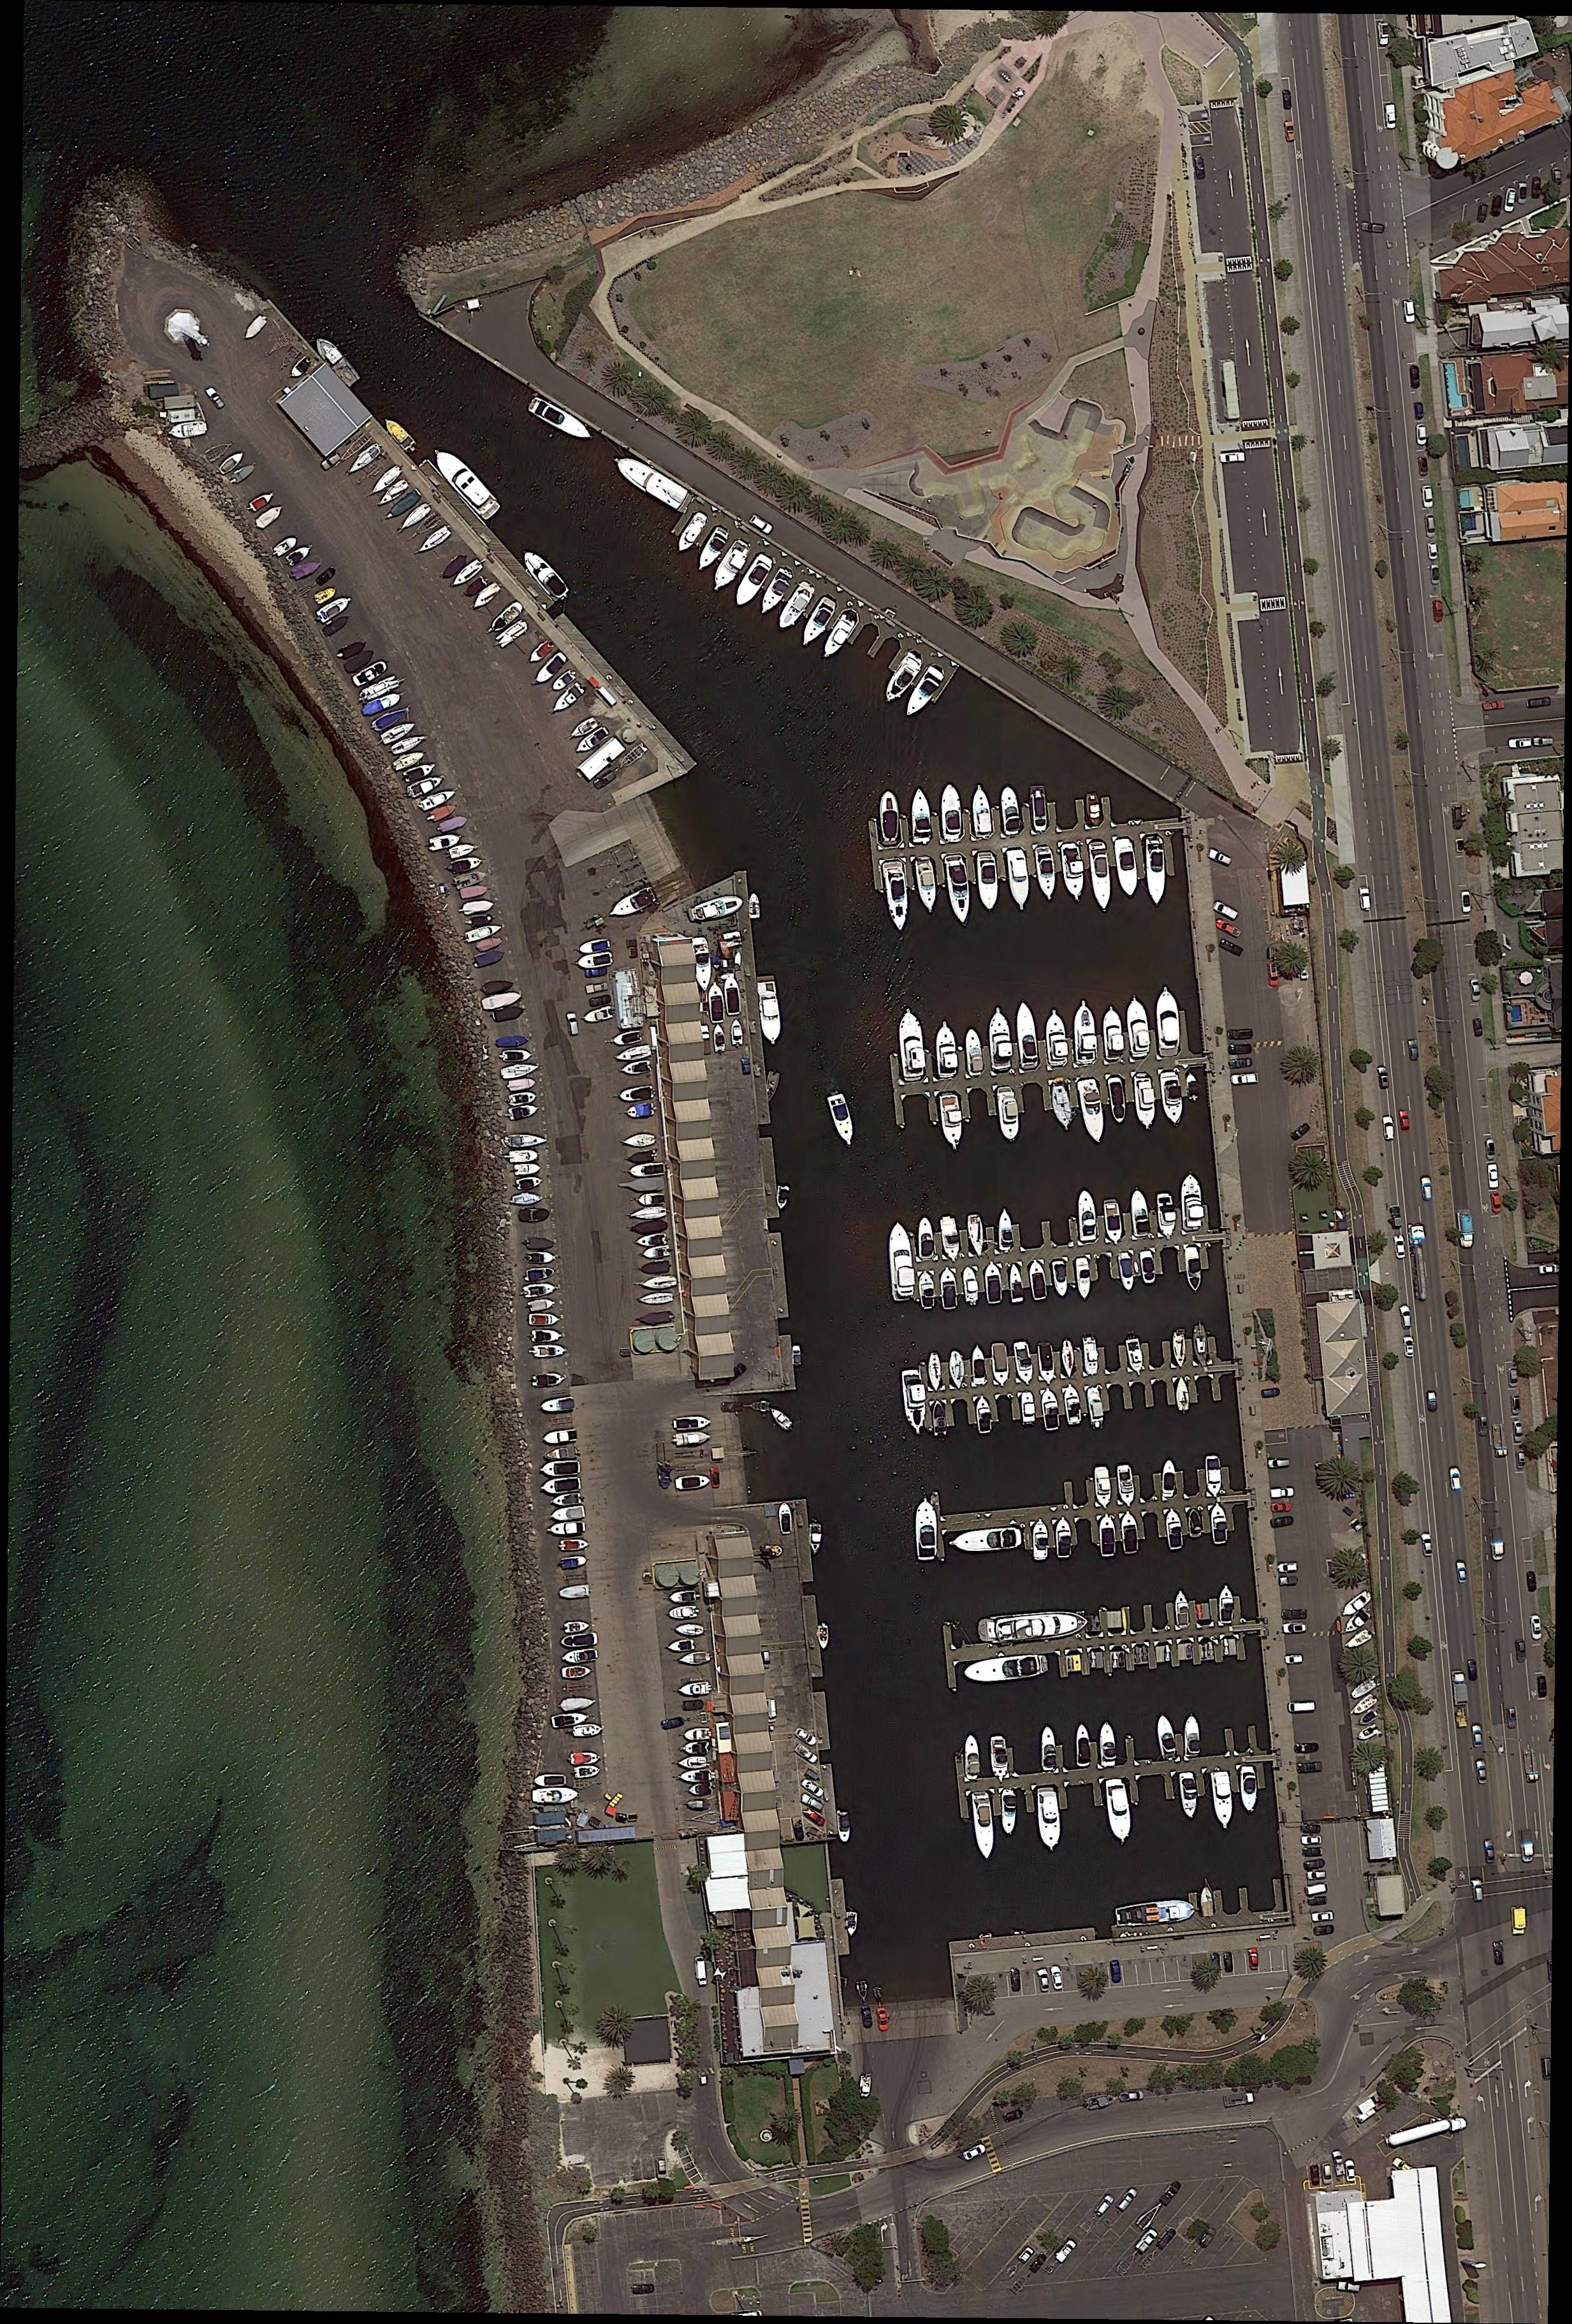harbor: (861, 765, 1190, 934), (883, 991, 1212, 1148), (953, 1712, 1279, 1855), (906, 1184, 1226, 1311), (914, 1323, 1239, 1442), (928, 1455, 1250, 1568), (943, 1587, 1266, 1694), (671, 508, 693, 537), (931, 676, 950, 702), (802, 592, 821, 617), (695, 523, 713, 548), (739, 550, 757, 576), (889, 649, 908, 672), (761, 566, 778, 591), (782, 579, 799, 603), (717, 538, 734, 562), (846, 622, 864, 644), (868, 636, 885, 658), (826, 607, 843, 631), (912, 664, 928, 687), (1273, 1879, 1283, 1908), (1239, 1888, 1249, 1910), (1214, 1891, 1223, 1912)
large vehicle: (1388, 2115, 1469, 2148), (1408, 1226, 1430, 1301), (1135, 2228, 1160, 2255), (1458, 1210, 1474, 1249), (1524, 1749, 1540, 1781), (1452, 1670, 1467, 1706), (1223, 2092, 1255, 2108), (1493, 1425, 1508, 1457), (1520, 1830, 1535, 1863), (1490, 1528, 1504, 1562), (1511, 1906, 1525, 1935), (1288, 1701, 1316, 1713)
ship: (426, 442, 504, 523), (611, 451, 695, 516), (979, 1611, 1086, 1644), (527, 395, 596, 446), (518, 547, 571, 602), (311, 333, 363, 388), (963, 1653, 1050, 1686), (732, 551, 776, 611), (708, 537, 753, 596), (901, 665, 945, 723), (773, 579, 817, 635), (881, 651, 925, 708), (884, 1223, 915, 1302), (796, 595, 839, 651), (1116, 1900, 1195, 1929), (896, 1008, 926, 1083), (944, 854, 974, 927), (1077, 1078, 1109, 1144), (688, 890, 746, 926), (949, 1527, 1023, 1555), (882, 861, 910, 933), (608, 885, 659, 923), (757, 567, 795, 618), (1088, 842, 1115, 913), (1105, 1778, 1134, 1845), (756, 976, 783, 1046), (694, 526, 732, 574), (820, 613, 857, 662), (1059, 843, 1089, 903), (987, 1007, 1013, 1073), (901, 1369, 927, 1435), (972, 1792, 996, 1861), (1005, 848, 1033, 909), (1036, 1787, 1063, 1849), (1015, 1002, 1039, 1070), (827, 1093, 857, 1146), (1073, 1001, 1098, 1065), (1125, 997, 1151, 1059), (674, 511, 710, 556), (381, 414, 419, 456), (995, 1085, 1023, 1142), (939, 1093, 965, 1152), (1156, 991, 1180, 1056), (384, 488, 424, 526), (1114, 839, 1140, 897), (344, 442, 386, 479), (1044, 1009, 1069, 1068), (914, 855, 939, 915), (977, 852, 1001, 912), (1146, 836, 1167, 906), (1211, 1771, 1235, 1831), (934, 1020, 958, 1079), (1160, 1071, 1186, 1126), (915, 1500, 938, 1561), (1133, 1072, 1158, 1129), (487, 600, 525, 637), (532, 651, 569, 689), (394, 501, 433, 537), (412, 523, 453, 558), (360, 688, 406, 719), (315, 592, 356, 626), (1034, 846, 1059, 900), (351, 657, 391, 689), (1101, 1006, 1124, 1061), (941, 783, 963, 842), (572, 725, 611, 757), (370, 704, 412, 734), (370, 463, 404, 498), (449, 557, 485, 590), (1051, 1084, 1076, 1131), (551, 681, 586, 715), (910, 788, 931, 844), (1181, 1175, 1202, 1231), (970, 785, 993, 838), (469, 581, 504, 614), (377, 477, 412, 510), (692, 937, 712, 992), (405, 773, 445, 801), (878, 791, 899, 844), (939, 1214, 963, 1261), (1076, 1190, 1098, 1241), (1000, 785, 1021, 837), (1179, 1771, 1200, 1820), (1107, 1077, 1129, 1124), (418, 787, 458, 813), (1339, 1590, 1373, 1621), (379, 718, 417, 746), (1156, 1715, 1178, 1761), (390, 730, 428, 758), (1103, 1199, 1125, 1245), (1130, 1189, 1151, 1238), (963, 1028, 984, 1077), (1183, 1247, 1205, 1293), (1040, 1388, 1062, 1432), (1163, 1508, 1186, 1551), (1156, 1193, 1176, 1240), (1343, 1606, 1374, 1636), (1030, 786, 1049, 833), (1013, 1341, 1035, 1384), (983, 1261, 1004, 1305), (1093, 1465, 1114, 1511), (574, 950, 615, 973), (402, 759, 438, 785), (1063, 1384, 1084, 1427), (1027, 1260, 1049, 1302), (990, 1736, 1010, 1780), (1085, 1386, 1105, 1430), (1116, 1464, 1136, 1509), (939, 1267, 959, 1312), (991, 1342, 1010, 1387), (1124, 1337, 1146, 1376), (254, 502, 284, 531), (532, 1787, 579, 1805), (464, 922, 503, 944), (614, 1043, 653, 1065), (391, 748, 425, 774), (527, 638, 557, 667), (217, 449, 247, 477), (967, 1214, 986, 1258), (1037, 1344, 1057, 1386), (167, 421, 208, 440), (500, 1061, 539, 1082), (241, 315, 268, 344), (1344, 1627, 1374, 1653), (1121, 1511, 1139, 1555), (1099, 1723, 1117, 1768), (541, 1476, 582, 1495), (964, 1734, 981, 1780), (1006, 1264, 1026, 1304), (708, 984, 727, 1024), (1350, 1676, 1381, 1701), (1204, 1456, 1223, 1498), (284, 542, 312, 569), (961, 1266, 980, 1307), (1183, 1715, 1200, 1758), (448, 854, 483, 876), (723, 976, 741, 1017), (970, 1345, 988, 1386), (1210, 1505, 1228, 1546), (769, 1405, 795, 1434), (617, 1085, 655, 1105), (551, 1710, 588, 1730), (917, 1270, 936, 1311), (1001, 1790, 1017, 1836), (1031, 1520, 1049, 1561), (917, 1217, 935, 1259), (288, 355, 315, 382), (560, 1631, 599, 1650), (975, 1395, 994, 1435), (540, 1460, 581, 1478), (1192, 1325, 1210, 1366), (453, 869, 488, 890), (627, 1161, 666, 1179), (1099, 1514, 1116, 1557), (1118, 1252, 1136, 1292), (550, 668, 578, 694), (570, 717, 599, 741), (673, 1414, 711, 1432), (582, 1005, 615, 1026), (428, 832, 462, 852), (272, 534, 300, 558), (1075, 1258, 1092, 1300), (630, 1205, 667, 1223), (948, 1351, 966, 1388), (1040, 1725, 1056, 1771), (1056, 1518, 1072, 1559), (1351, 1692, 1379, 1717), (1160, 1459, 1177, 1499), (428, 803, 459, 824), (540, 1396, 576, 1414), (641, 1274, 678, 1291), (1139, 1250, 1158, 1285), (1173, 1377, 1192, 1413), (674, 1474, 711, 1492), (562, 1648, 598, 1666), (931, 1400, 949, 1437), (608, 1030, 643, 1049), (1084, 792, 1103, 827), (637, 1290, 674, 1307), (619, 1059, 653, 1078), (523, 1281, 558, 1299), (1020, 1391, 1037, 1428), (1052, 1261, 1069, 1298), (623, 1103, 656, 1122), (997, 1210, 1012, 1251), (927, 1352, 943, 1390), (508, 1102, 540, 1122), (249, 490, 277, 512), (504, 1133, 547, 1148), (674, 1430, 710, 1448), (542, 1428, 579, 1446), (1219, 1587, 1235, 1625), (1083, 1337, 1099, 1376), (621, 1133, 657, 1150), (578, 938, 611, 957), (551, 1505, 586, 1522), (1061, 1340, 1076, 1379), (549, 1521, 586, 1537), (1174, 1591, 1190, 1628), (530, 1344, 568, 1359), (679, 1681, 713, 1698), (1076, 1725, 1090, 1766), (668, 1604, 700, 1622), (572, 1721, 603, 1739), (836, 1810, 853, 1844), (313, 585, 338, 606), (679, 1650, 711, 1667), (678, 1769, 713, 1785), (544, 1447, 578, 1462), (448, 841, 476, 861), (641, 1244, 671, 1262), (636, 1233, 666, 1249), (561, 1664, 592, 1680), (508, 1090, 537, 1107), (1172, 1333, 1186, 1367), (1357, 1723, 1380, 1743), (534, 1773, 566, 1787), (528, 1296, 557, 1313), (516, 1175, 544, 1191), (678, 1755, 708, 1770), (674, 1623, 705, 1638), (525, 1267, 555, 1282), (551, 1492, 581, 1507), (1199, 1887, 1214, 1917), (1186, 1509, 1202, 1538), (809, 1522, 823, 1555), (778, 1503, 792, 1536), (668, 1590, 700, 1604), (533, 1373, 565, 1387), (513, 1192, 542, 1207), (531, 1329, 562, 1343), (530, 1312, 561, 1326), (560, 1554, 586, 1571), (637, 1192, 666, 1207), (712, 1024, 727, 1054), (571, 1752, 600, 1766), (681, 1728, 711, 1742), (668, 1639, 695, 1654), (1358, 1708, 1379, 1728), (509, 1149, 539, 1163), (1186, 1074, 1201, 1101), (686, 1783, 715, 1797), (776, 1185, 791, 1210), (574, 1765, 601, 1779), (560, 1538, 589, 1551), (731, 1019, 744, 1047), (564, 1620, 590, 1634), (680, 1741, 710, 1754), (502, 1049, 531, 1061), (513, 1163, 541, 1176), (748, 893, 761, 920), (528, 1251, 555, 1264), (817, 1623, 829, 1650), (846, 1913, 859, 1937), (791, 1346, 801, 1365)
small vehicle: (1116, 2185, 1139, 2212), (794, 1743, 820, 1766), (748, 512, 775, 535), (1054, 2238, 1077, 2263), (1212, 900, 1239, 922), (1215, 918, 1242, 938), (1093, 2193, 1116, 2217), (801, 1776, 825, 1799), (799, 1792, 825, 1813), (794, 1726, 819, 1747), (205, 386, 226, 410), (1207, 848, 1233, 868), (961, 2142, 987, 2162), (1197, 2226, 1218, 2249), (804, 1808, 827, 1829), (321, 451, 342, 473), (1290, 1122, 1312, 1143), (1232, 1073, 1259, 1086), (1270, 1515, 1294, 1530), (1297, 1761, 1323, 1775), (876, 2007, 890, 2031), (1050, 1966, 1064, 1991), (1382, 1116, 1395, 1141), (1228, 1043, 1253, 1057), (861, 2004, 874, 2029), (566, 1012, 580, 1036), (1017, 2245, 1035, 2263), (1399, 1304, 1412, 1328), (1394, 1235, 1406, 1259), (1267, 961, 1279, 987), (1359, 887, 1372, 911), (1450, 1467, 1462, 1491), (1403, 300, 1416, 324), (1037, 1968, 1049, 1993), (1283, 1622, 1307, 1634), (1377, 1066, 1390, 1089), (1505, 189, 1517, 213), (1422, 486, 1434, 510), (1110, 1960, 1122, 1984), (1531, 1615, 1542, 1640), (1527, 697, 1551, 709), (1488, 1164, 1499, 1189), (589, 994, 611, 1007), (1312, 1911, 1334, 1924), (1304, 1858, 1326, 1871), (1270, 1488, 1295, 1499), (1422, 1534, 1433, 1558), (1228, 1029, 1254, 1040), (1386, 105, 1397, 130), (1470, 979, 1481, 1003), (1421, 1177, 1432, 1201), (1229, 1057, 1251, 1070), (1362, 222, 1384, 234), (1510, 737, 1532, 750), (1283, 1609, 1307, 1620), (585, 968, 608, 979), (1472, 1878, 1483, 1901), (1337, 2282, 1360, 2293), (1471, 1724, 1482, 1748), (1403, 1336, 1415, 1358), (1344, 2160, 1356, 2182), (1491, 1192, 1503, 1214), (1378, 22, 1389, 45), (1268, 1458, 1290, 1470), (631, 2284, 654, 2295), (1284, 122, 1296, 142), (1485, 1840, 1495, 1864), (1453, 807, 1463, 831), (1010, 1969, 1021, 1991), (682, 1700, 703, 1711), (1409, 1040, 1420, 1061), (1301, 1834, 1322, 1846), (1248, 1949, 1259, 1970), (1416, 424, 1427, 446), (1223, 1952, 1234, 1973), (1457, 1560, 1467, 1583), (1477, 1761, 1487, 1783), (1461, 891, 1471, 914), (1427, 542, 1439, 561), (1271, 1502, 1292, 1513), (1321, 2163, 1332, 2184), (1300, 1824, 1321, 1834), (1493, 1943, 1504, 1964), (1409, 366, 1420, 388), (1425, 515, 1435, 539), (1399, 1110, 1410, 1130), (657, 2159, 668, 2179), (1516, 1640, 1525, 1663), (1434, 600, 1443, 623), (1511, 1395, 1521, 1416), (1507, 1707, 1517, 1729), (1526, 1572, 1536, 1592), (1513, 1421, 1523, 1442), (1418, 457, 1429, 476), (1534, 737, 1553, 748), (1310, 2165, 1320, 2185), (1508, 1367, 1518, 1388), (1476, 206, 1488, 223), (1285, 1655, 1304, 1666), (1480, 1416, 1488, 1437), (1487, 1139, 1496, 1161), (1430, 564, 1439, 585), (1279, 1563, 1298, 1572), (1307, 1871, 1327, 1880), (1517, 1451, 1526, 1471), (1518, 184, 1527, 204), (1468, 1660, 1477, 1680), (1532, 178, 1540, 199), (1474, 1019, 1483, 1036), (1415, 403, 1423, 421)
storage tank: (681, 1564, 702, 1585), (658, 1330, 678, 1351), (659, 1567, 680, 1588), (634, 1333, 655, 1353)
